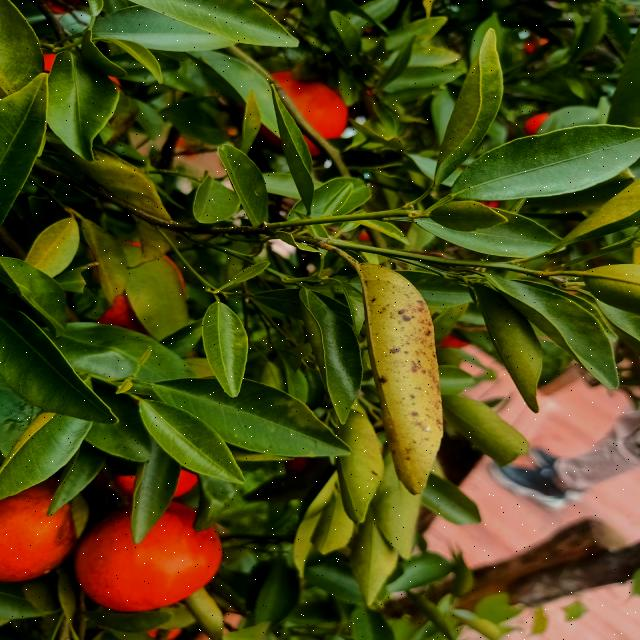melanose: (356, 259, 460, 492)
